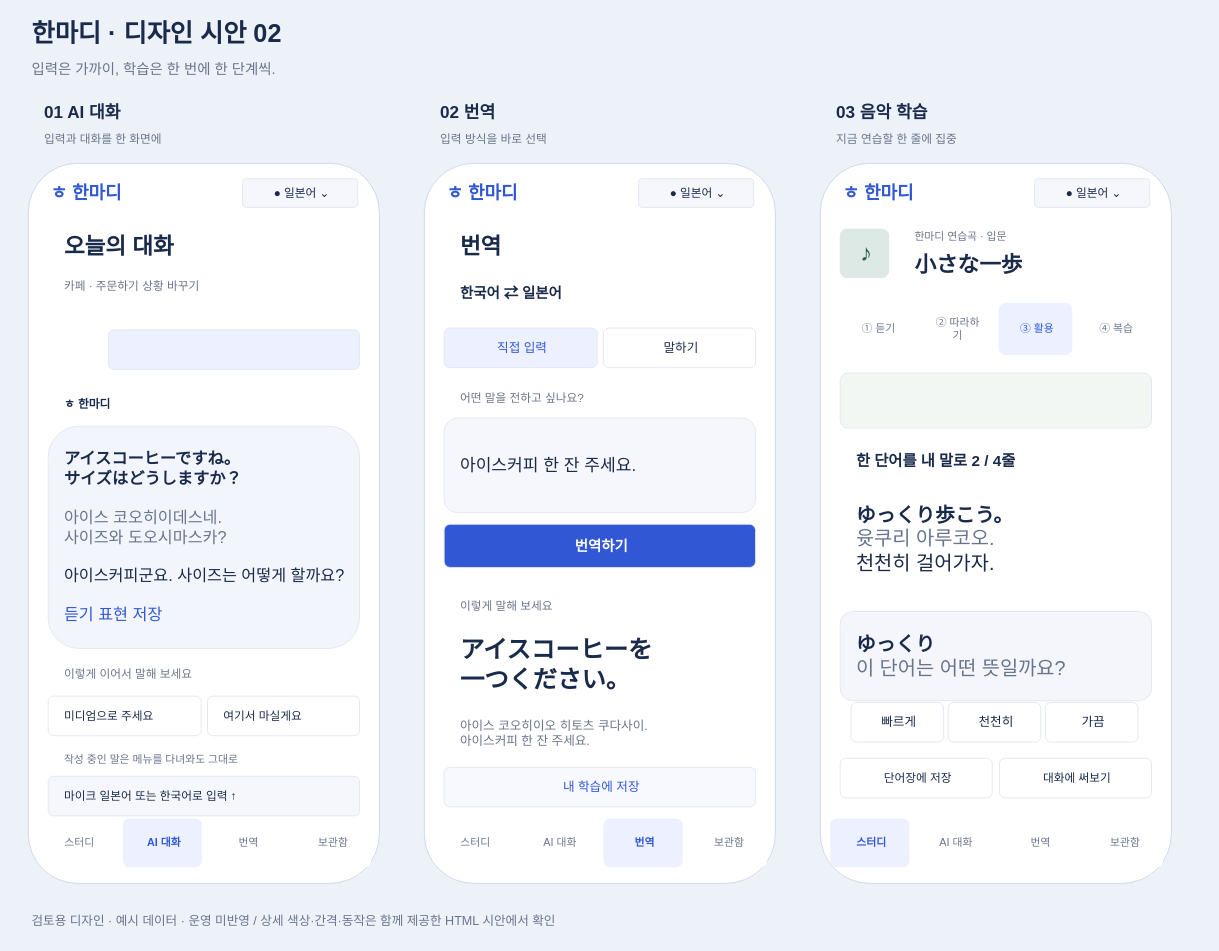
Image size: 1219x951. Some labels were removed from this diagram. Here are the shapes that lost their labels. From the top down, the centre of each, then its label:
At (x=234, y=349): "아이스커피를 주문하고 싶어요.".
At (x=995, y=400): "▶ 이 줄 반복 듣기 ━━━━━ 전체 가사".
